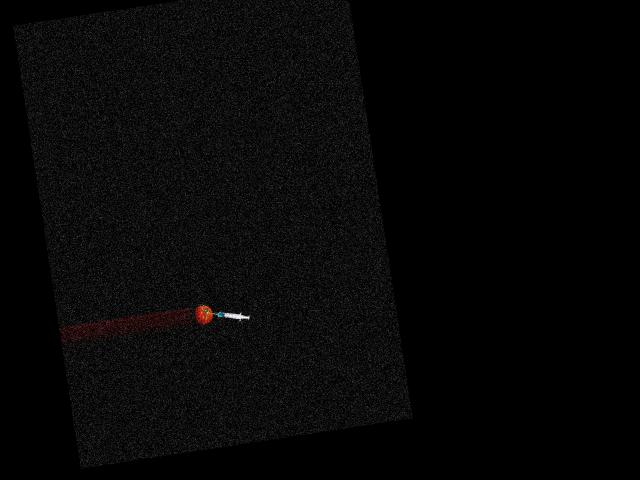tomato: (193, 303, 213, 326)
